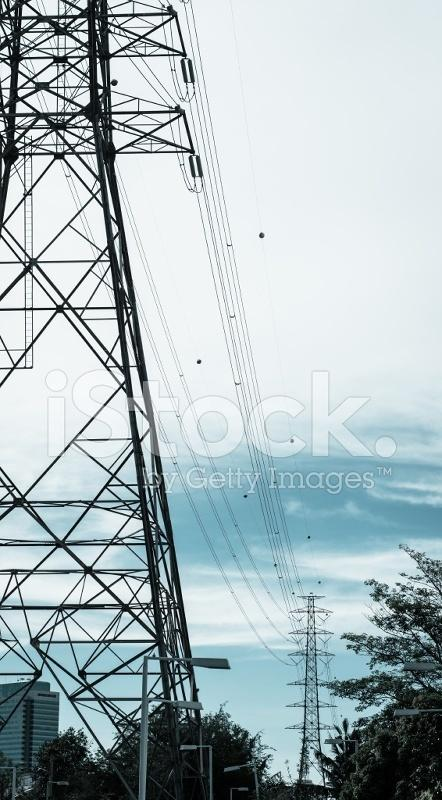power_tower: (5, 1, 225, 682)
